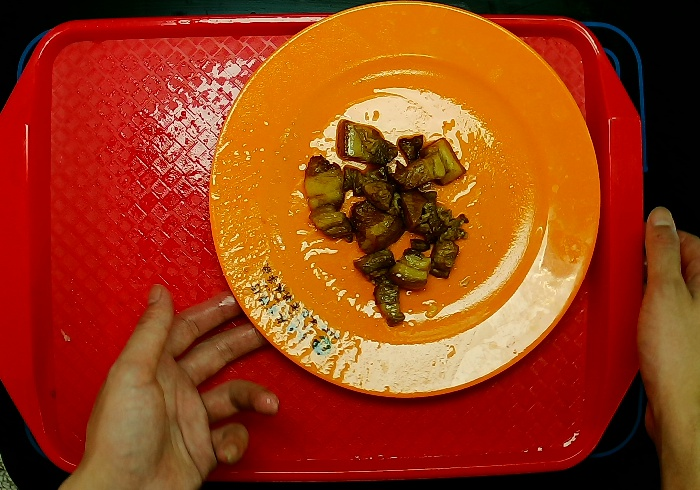YKMZ-Ju_Se_Mian_Pan: (207, 1, 610, 404)
